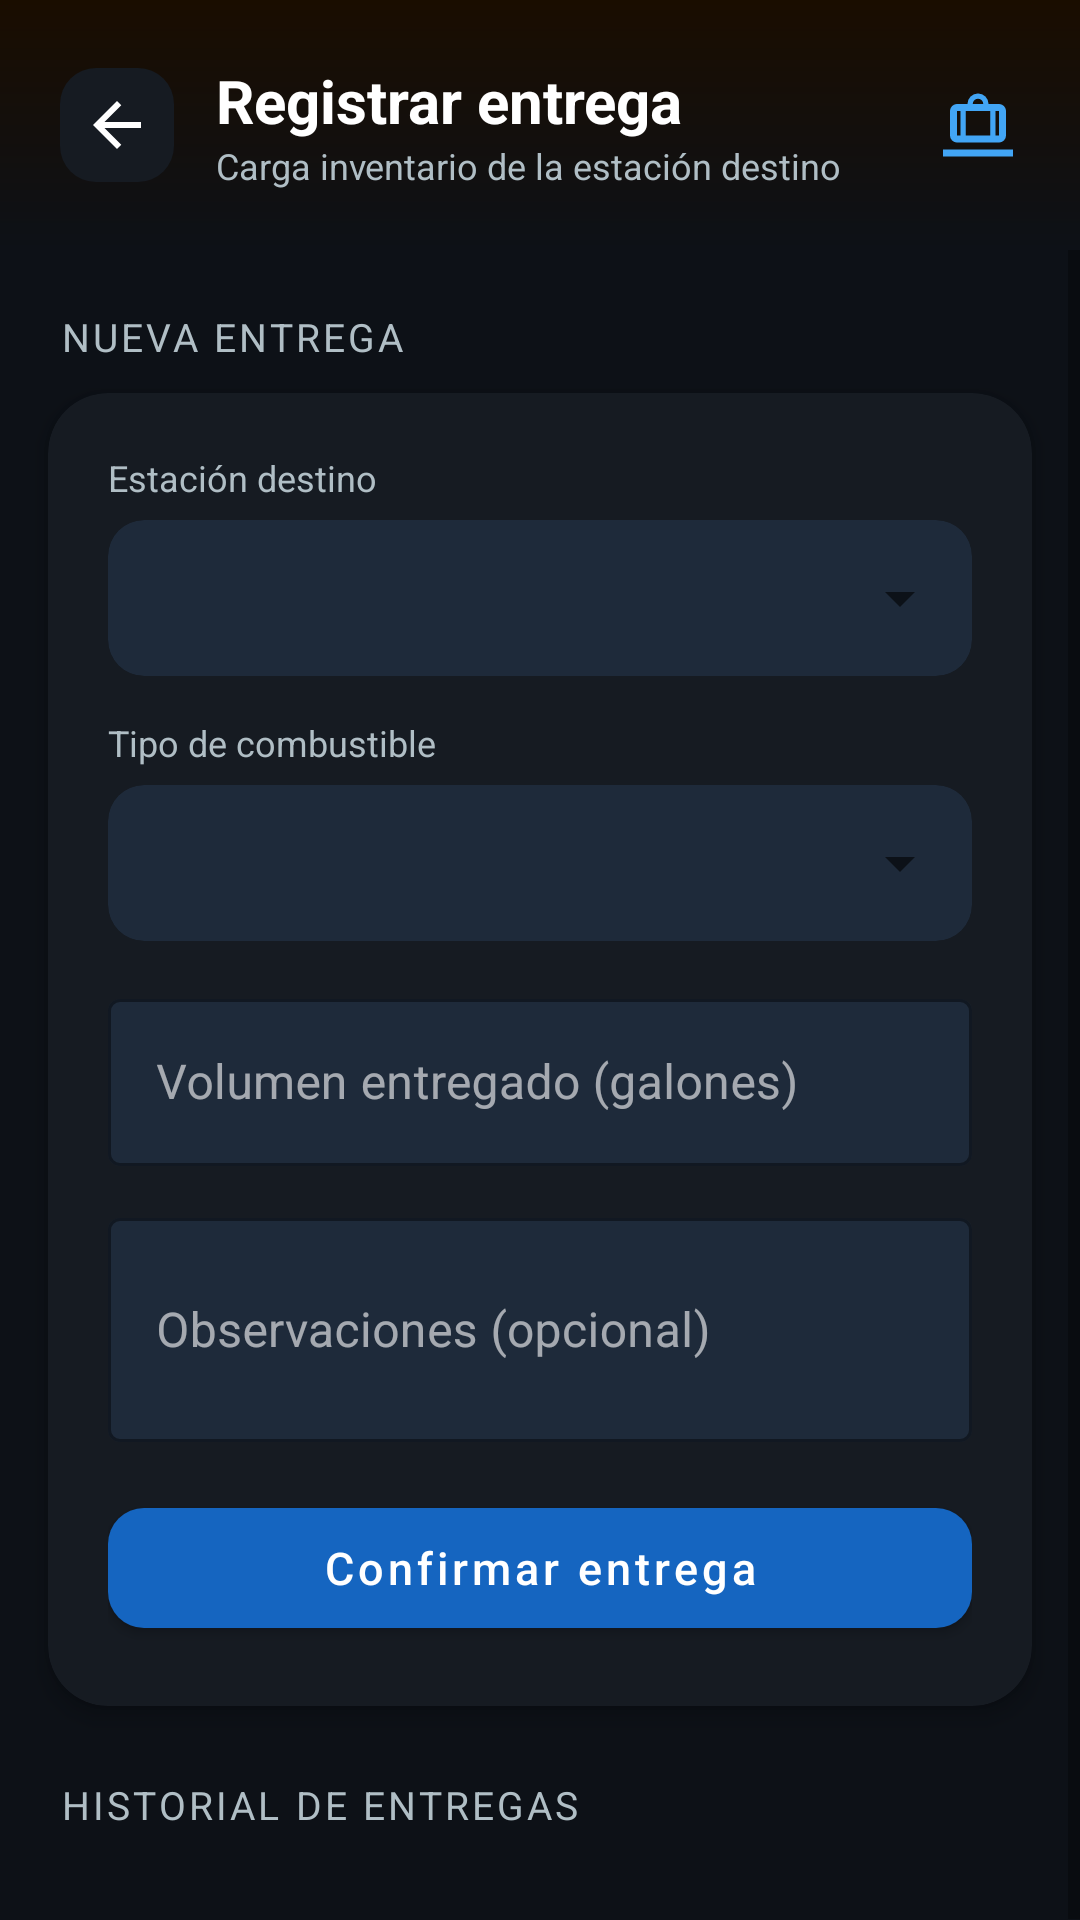

Locate icon controls on the screen. Image size 1080×1920, boxes as (x1, y1, x2, y2).
Volver: (60, 68, 174, 182)
